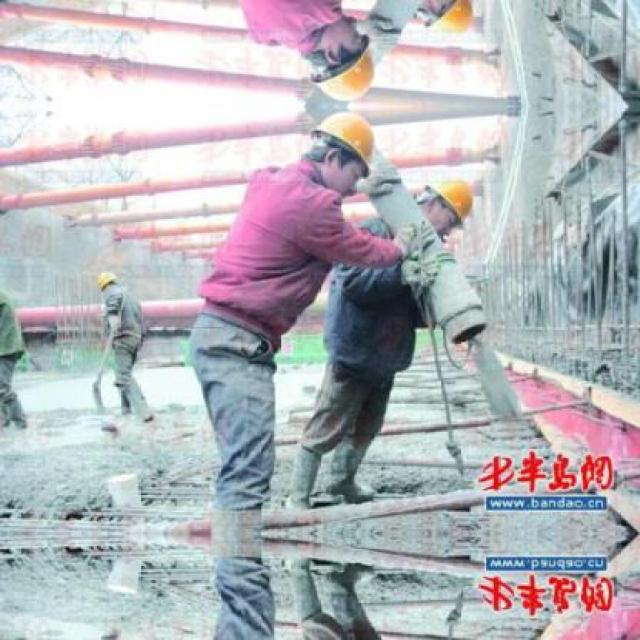helmet: (296, 12, 382, 105), (296, 108, 382, 200), (412, 170, 477, 230), (412, 0, 478, 43), (96, 267, 122, 296)
